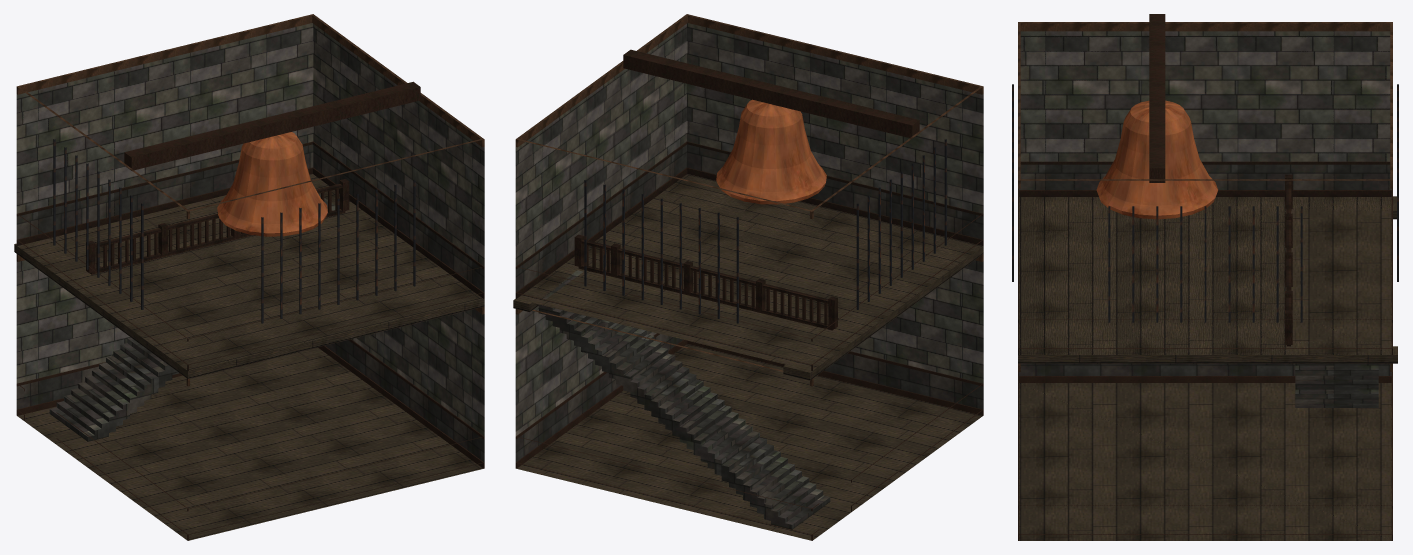
The model's file is manor_bt.glb.
3 renders of one model, left to right at view 1: azimuth 30°, elevation 25°; view 2: azimuth 150°, elevation 25°; view 3: azimuth 270°, elevation 25°, orthographic. The views are drawn at different scales.
Visible parts, largest first — view 1: manor_bt; view 2: manor_bt; view 3: manor_bt.
Part boxes in pixels (x1,y1,x2,y2): manor_bt: (14, 14, 484, 540); manor_bt: (513, 14, 983, 540); manor_bt: (1012, 14, 1398, 540).
Bounding box in the file's own units: 12.06 × 12.97 × 12.06.
9 materials, 9 textured.
